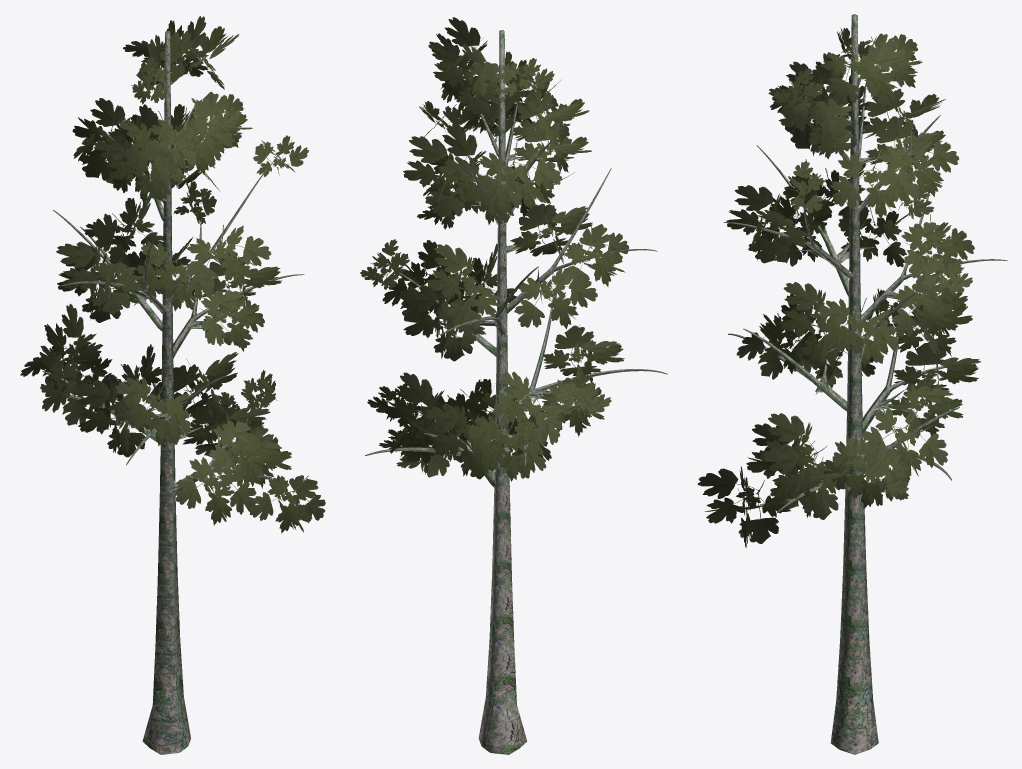
Rendered from faldridge tree.fbx.
3 views of the same model, side by side, from view 1: azimuth 30°, elevation 25°; view 2: azimuth 150°, elevation 25°; view 3: azimuth 270°, elevation 25° (orthographic). The views are drawn at different scales.
Parts seen in each view (by area): view 1: branch05_transmission_1, mossybark05_0; view 2: branch05_transmission_1, mossybark05_0; view 3: branch05_transmission_1, mossybark05_0.
Boxes of the visible parts, x1,y1,x2,y2 form: branch05_transmission_1: (20, 16, 325, 533); mossybark05_0: (42, 30, 304, 754); branch05_transmission_1: (360, 17, 629, 481); mossybark05_0: (362, 30, 667, 754); branch05_transmission_1: (697, 28, 981, 547); mossybark05_0: (723, 14, 1007, 754).
Size of the model in its own units: 198 by 501 by 194.
2 materials, 2 textured.
